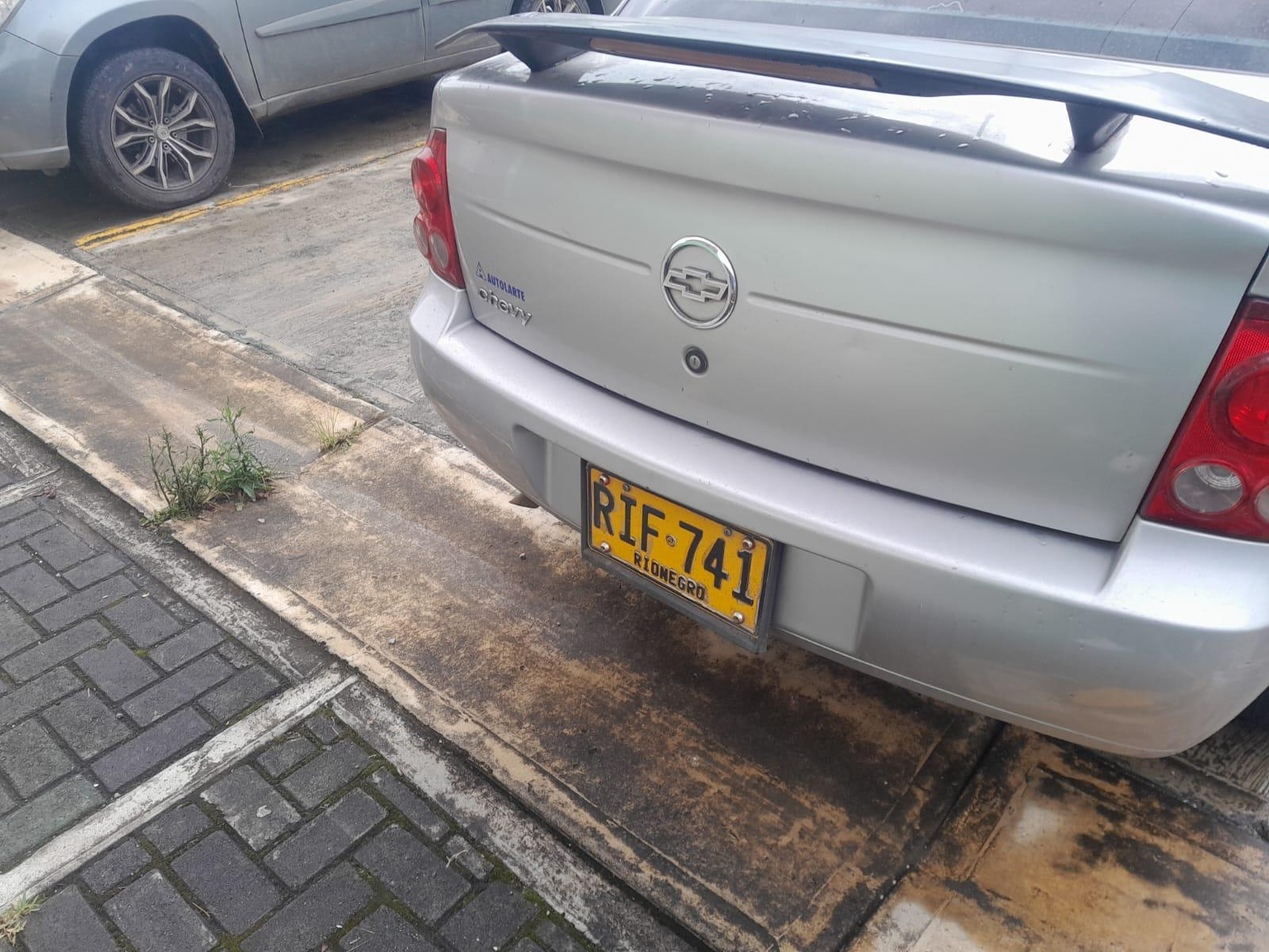placa: (583, 464, 774, 648)
